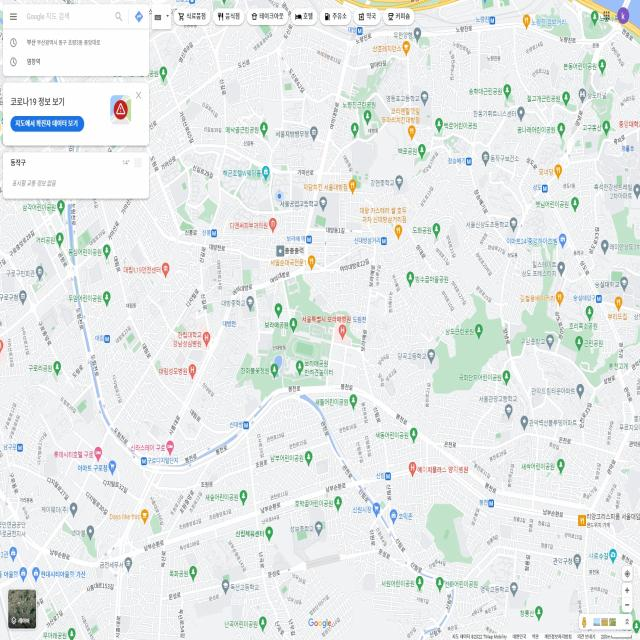search: (19, 5, 129, 28)
